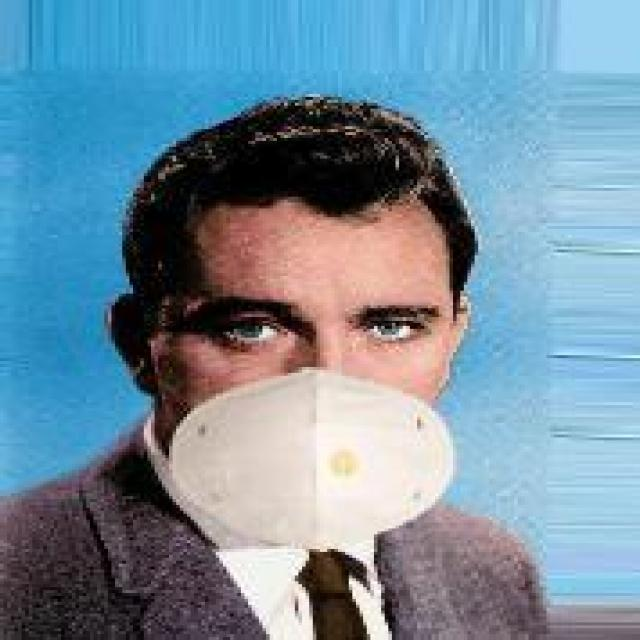mask: (64, 47, 500, 555)
